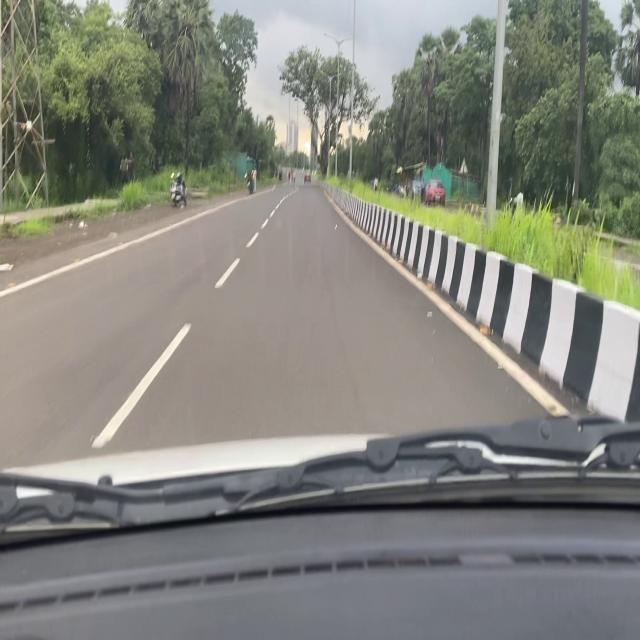lane: (333, 206, 572, 416), (90, 203, 286, 447), (1, 198, 254, 300)
